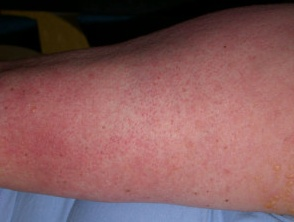SJS-TEN: (248, 150, 294, 218)
